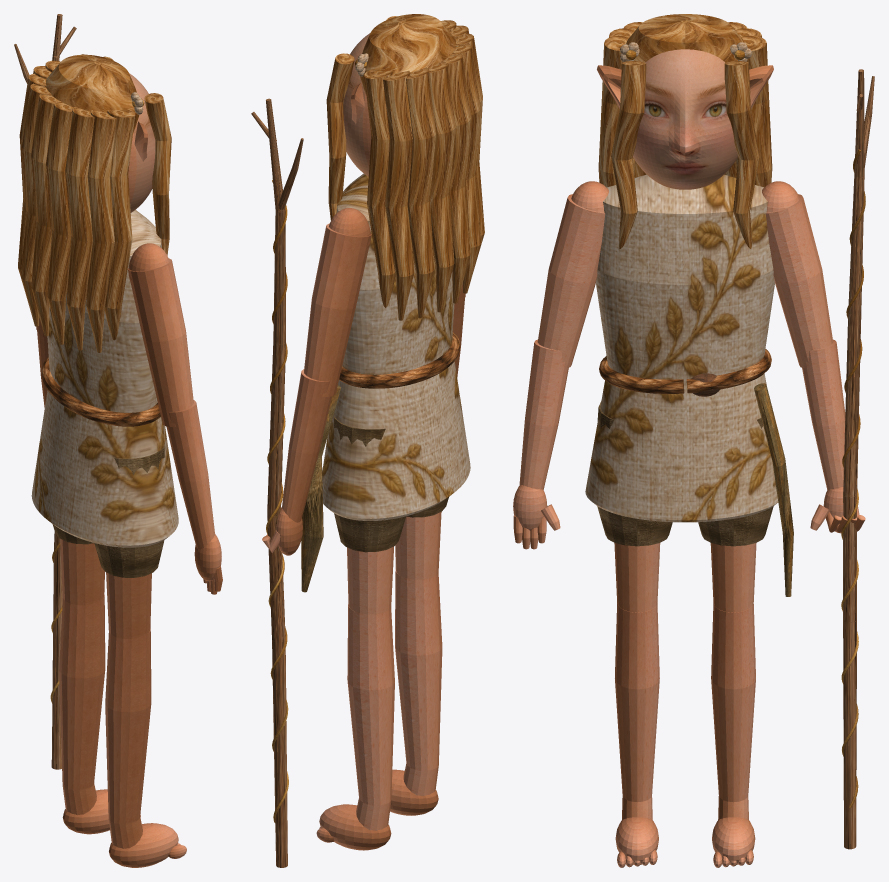
File: yasi.obj
3 renders of one model, left to right at view 1: azimuth 30°, elevation 25°; view 2: azimuth 150°, elevation 25°; view 3: azimuth 270°, elevation 25°, orthographic. The views are drawn at different scales.
Visible parts, largest first — view 1: hair_hair, tunic_linen, right_shin_skin, left_shin_skin, right_upper_skin, right_fore_skin, right_thigh_skin, staff_wood, left_thigh_skin, right_thigh_pants, right_foot_skin, belt_rope (+4 smaller); view 2: hair_hair, tunic_linen, staff_wood, left_shin_skin, right_shin_skin, left_upper_skin, left_fore_skin, left_thigh_skin, right_thigh_skin, left_thigh_pants, sash_sash, left_foot_skin (+6 smaller); view 3: tunic_linen, hair_hair, head_face, staff_wood, left_shin_skin, right_shin_skin, right_upper_skin, left_upper_skin, right_fore_skin, left_fore_skin, right_thigh_skin, left_thigh_skin (+10 smaller).
Part boxes in pixels (<box>): hair_hair: <box>18,54,171,352</box>; tunic_linen: <box>31,210,178,547</box>; right_shin_skin: <box>105,629,151,848</box>; left_shin_skin: <box>59,595,105,815</box>; right_upper_skin: <box>127,243,193,426</box>; right_fore_skin: <box>166,400,214,549</box>; right_thigh_skin: <box>106,572,151,638</box>; staff_wood: <box>14,14,76,769</box>; left_thigh_skin: <box>60,538,104,605</box>; right_thigh_pants: <box>94,446,164,577</box>; right_foot_skin: <box>109,823,186,867</box>; belt_rope: <box>41,356,160,426</box>; hair_hair: <box>326,14,484,320</box>; tunic_linen: <box>322,173,470,520</box>; staff_wood: <box>251,98,303,867</box>; left_shin_skin: <box>347,604,394,830</box>; right_shin_skin: <box>395,569,442,796</box>; left_upper_skin: <box>304,208,371,396</box>; left_fore_skin: <box>282,369,331,522</box>; left_thigh_skin: <box>347,546,393,614</box>; right_thigh_skin: <box>395,512,441,579</box>; left_thigh_pants: <box>334,416,406,552</box>; sash_sash: <box>301,385,340,592</box>; left_foot_skin: <box>316,804,391,850</box>; tunic_linen: <box>585,174,778,522</box>; hair_hair: <box>598,14,772,248</box>; head_face: <box>633,49,737,189</box>; staff_wood: <box>843,69,874,849</box>; left_shin_skin: <box>711,603,755,819</box>; right_shin_skin: <box>615,603,659,819</box>; right_upper_skin: <box>537,181,608,368</box>; left_upper_skin: <box>762,181,833,368</box>; right_fore_skin: <box>519,339,568,489</box>; left_fore_skin: <box>802,339,845,489</box>; right_thigh_skin: <box>614,543,660,612</box>; left_thigh_skin: <box>710,543,756,612</box>.
Bounding box in the file's own units: 17.91 × 100 × 39.71.
3 materials, 3 textured.
